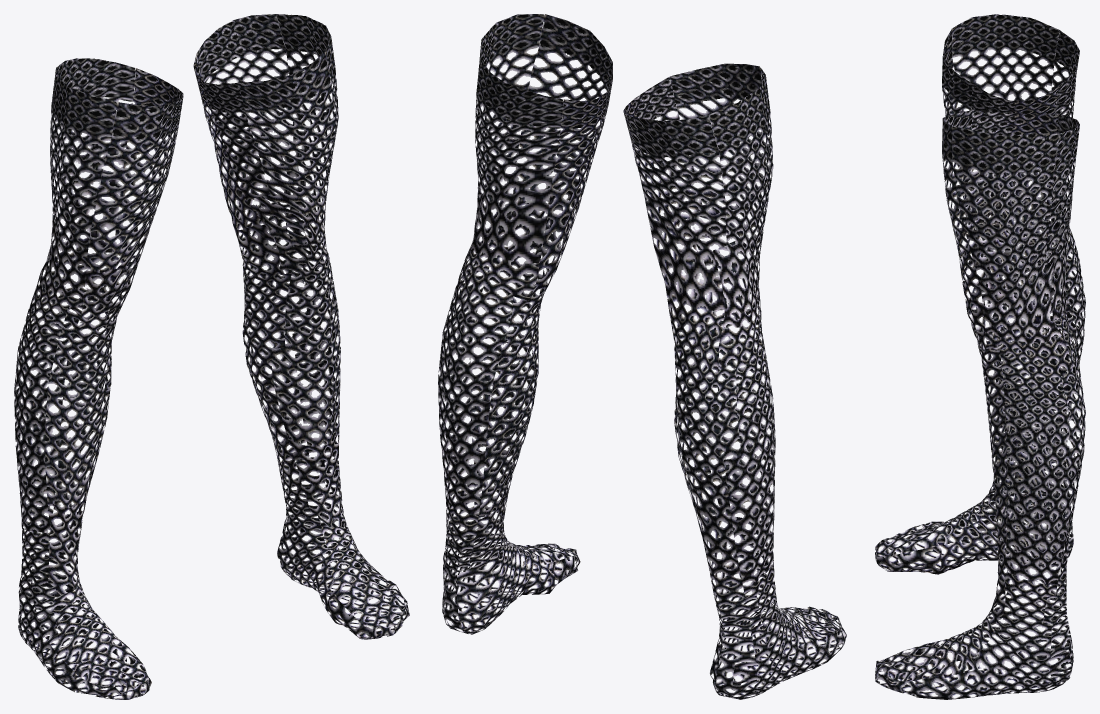
File: mhw_v0rt3x_stockings_black_fishnet_medium.glb
The picture shows the model from 3 angles, left to right: view 1: azimuth 30°, elevation 25°; view 2: azimuth 150°, elevation 25°; view 3: azimuth 270°, elevation 25°; orthographic projection. The views are drawn at different scales.
Visible parts, largest first — view 1: mhw_v0rt3x_stockings_black_fishnet_medium; view 2: mhw_v0rt3x_stockings_black_fishnet_medium; view 3: mhw_v0rt3x_stockings_black_fishnet_medium.
Part boxes in pixels (x1,y1,x2,y2): mhw_v0rt3x_stockings_black_fishnet_medium: [14, 14, 409, 699]; mhw_v0rt3x_stockings_black_fishnet_medium: [438, 14, 846, 699]; mhw_v0rt3x_stockings_black_fishnet_medium: [875, 14, 1085, 699].
Bounding box in the file's own units: 0.545 × 0.8774 × 0.3031.
Materials: 1 (1 with a texture image).
